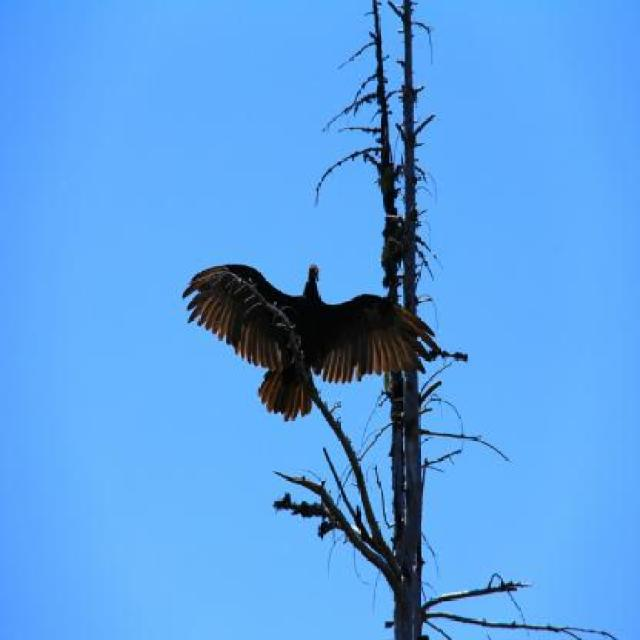Eagle: (184, 261, 444, 421)
